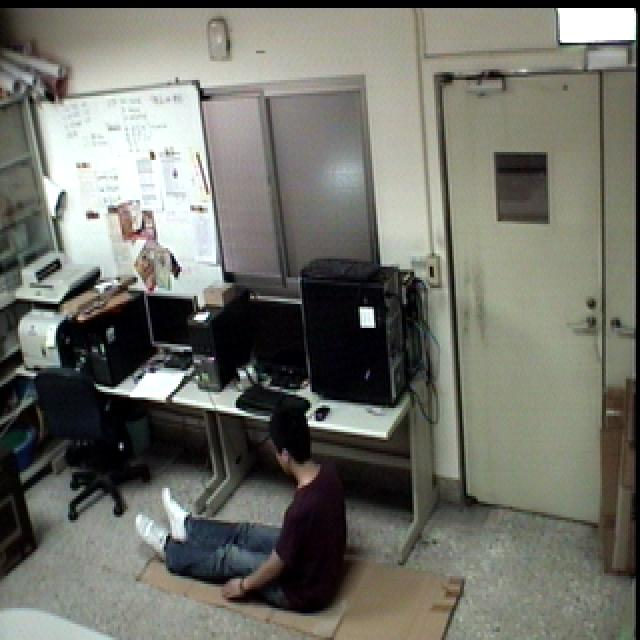sit: (130, 398, 356, 619)
